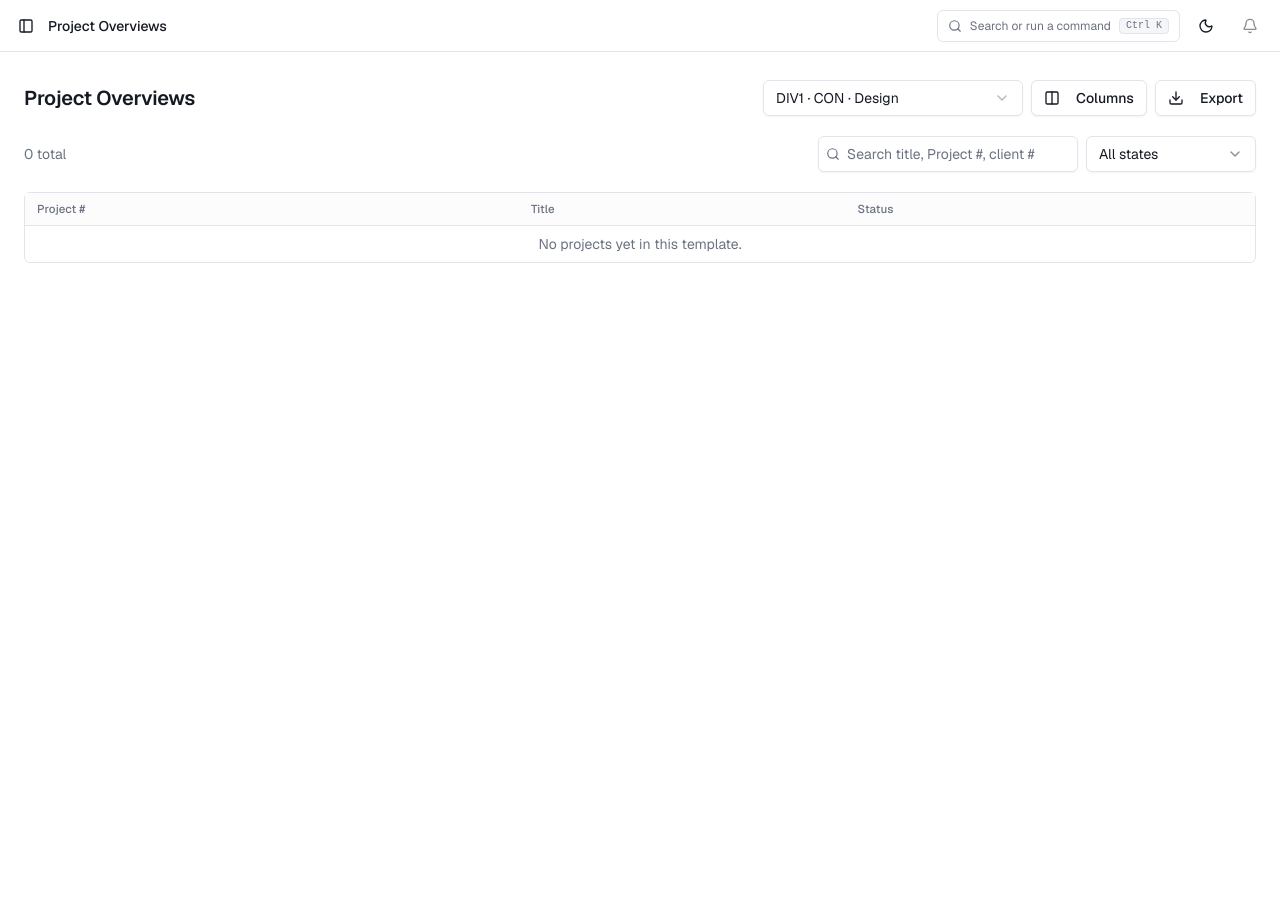
it: ProjectsViewPage › opens the column picker when 'Columns' is clicked
Click the button with aria-label "open column picker" at (1089, 98), box x1=1031 y1=80 x2=1147 y2=116
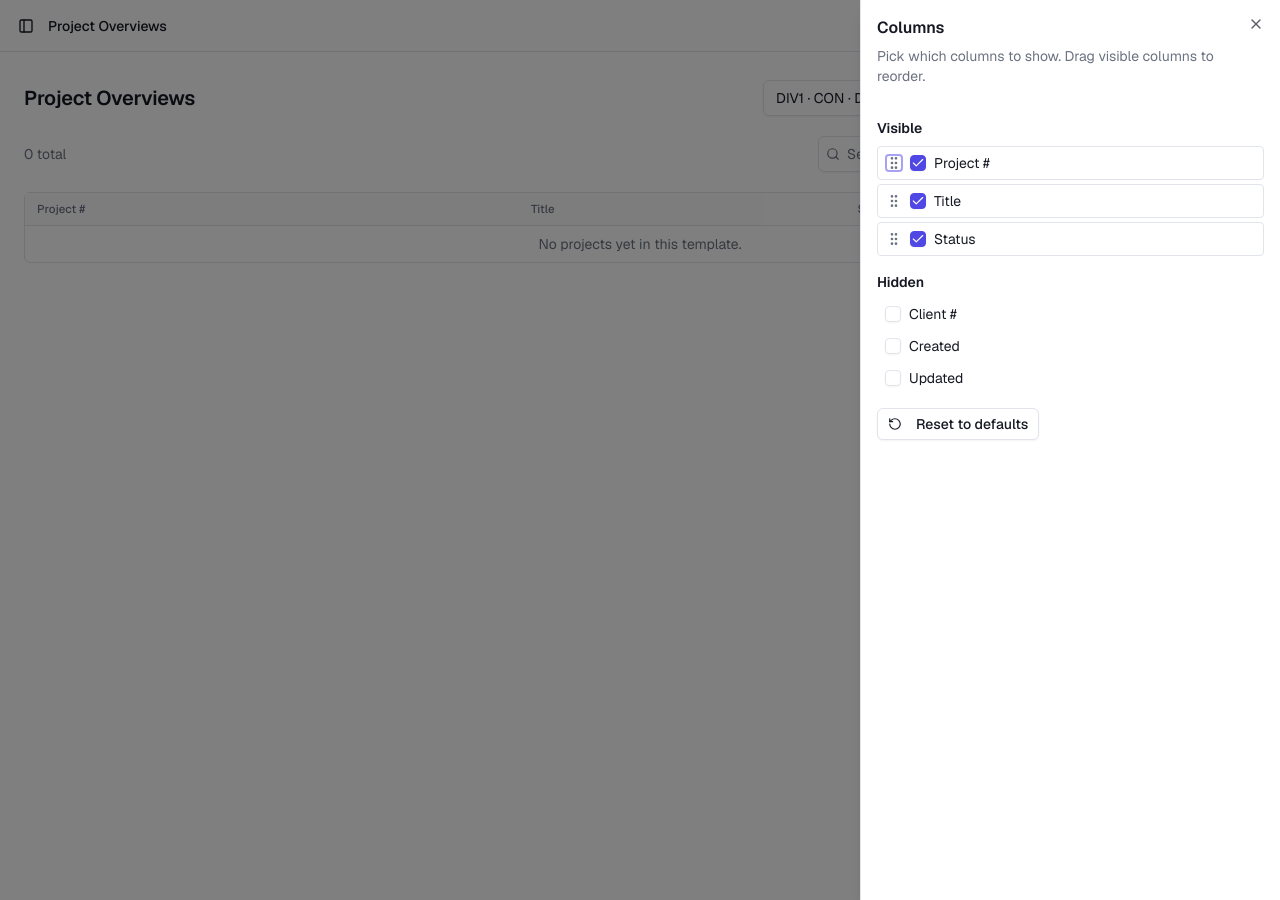
Expected: the text "Pick which columns to show. Drag visible columns to reorder." is shown, x1=877 y1=46 x2=1264 y2=86
